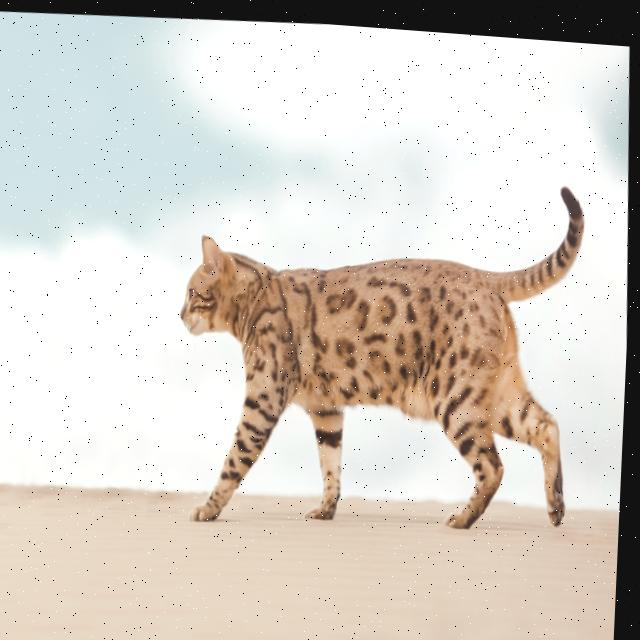Savannah: (167, 148, 599, 546)
